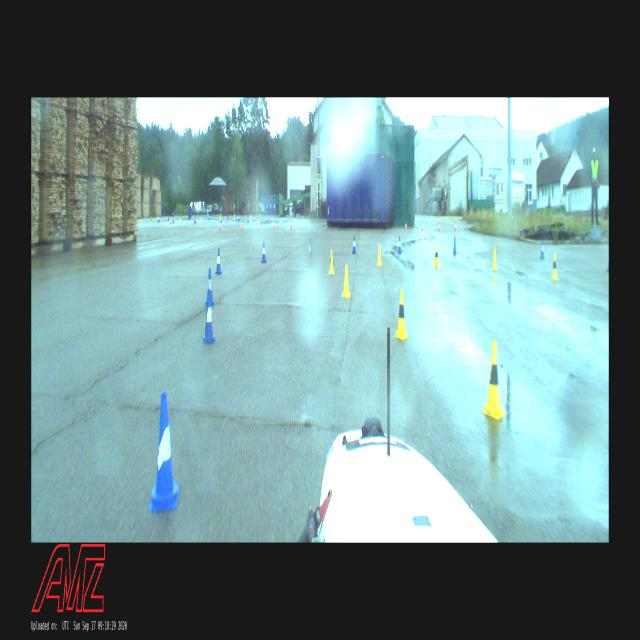blue_cone: (150, 392, 180, 510), (202, 296, 216, 344), (205, 269, 215, 306), (216, 248, 222, 274), (308, 237, 314, 261), (260, 242, 266, 263), (452, 236, 457, 254), (540, 241, 544, 259), (352, 236, 356, 253), (398, 237, 402, 253)
orange_cone: (219, 221, 221, 231), (241, 220, 243, 230), (405, 222, 407, 231), (273, 222, 275, 230), (290, 220, 292, 228), (438, 223, 440, 231), (422, 223, 424, 231), (454, 223, 456, 231), (258, 222, 260, 230), (170, 218, 172, 225)
yellow_cone: (482, 341, 505, 419), (394, 290, 409, 340), (341, 264, 351, 298), (551, 254, 558, 280), (328, 250, 334, 274), (492, 248, 498, 270), (434, 244, 439, 266), (377, 244, 382, 266), (150, 216, 152, 224)
